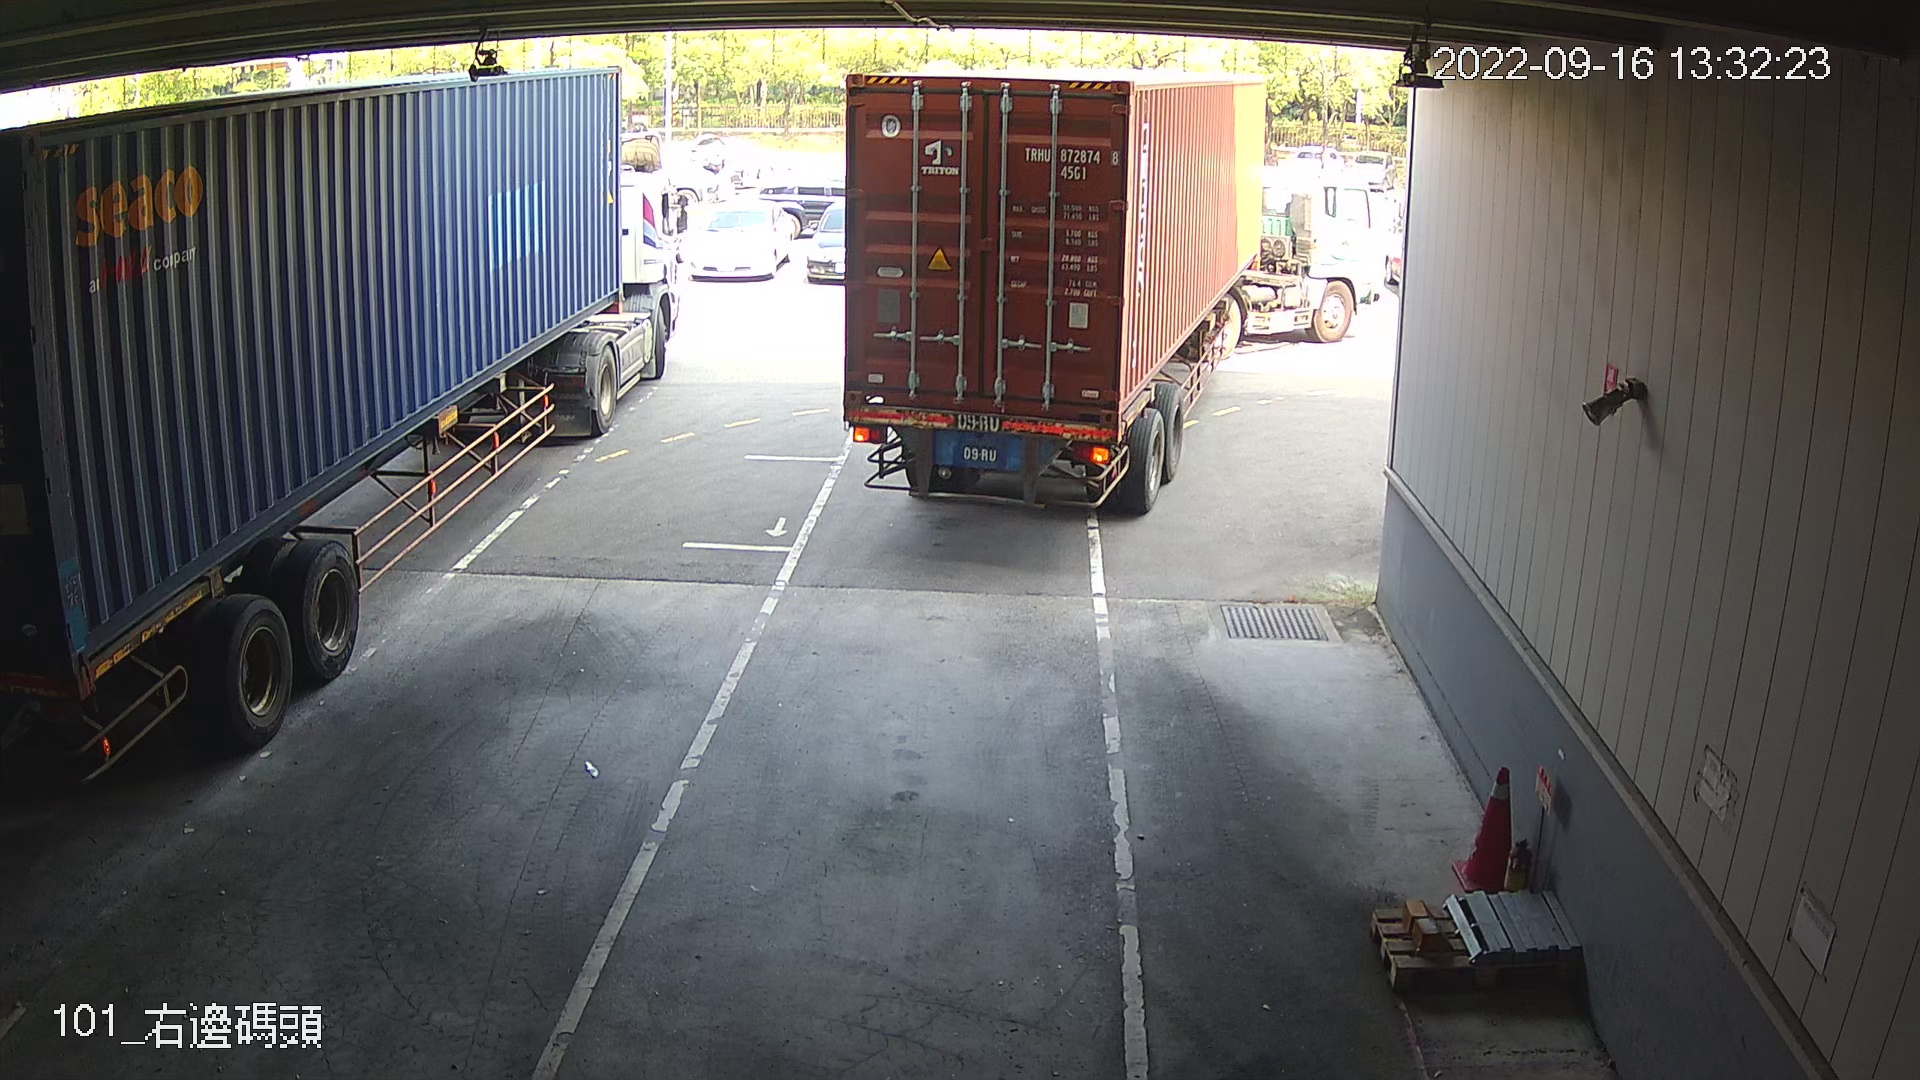container: (1014, 137, 1124, 187)
